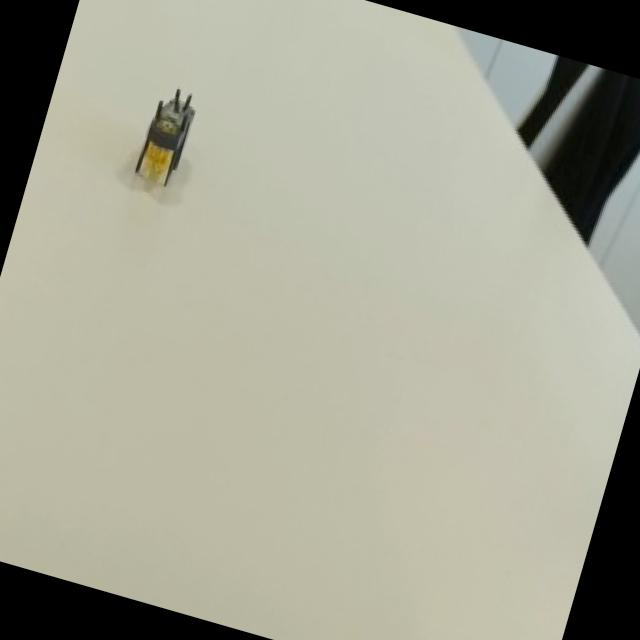6_NanoBug_GrisOscuro: (90, 54, 232, 232)
